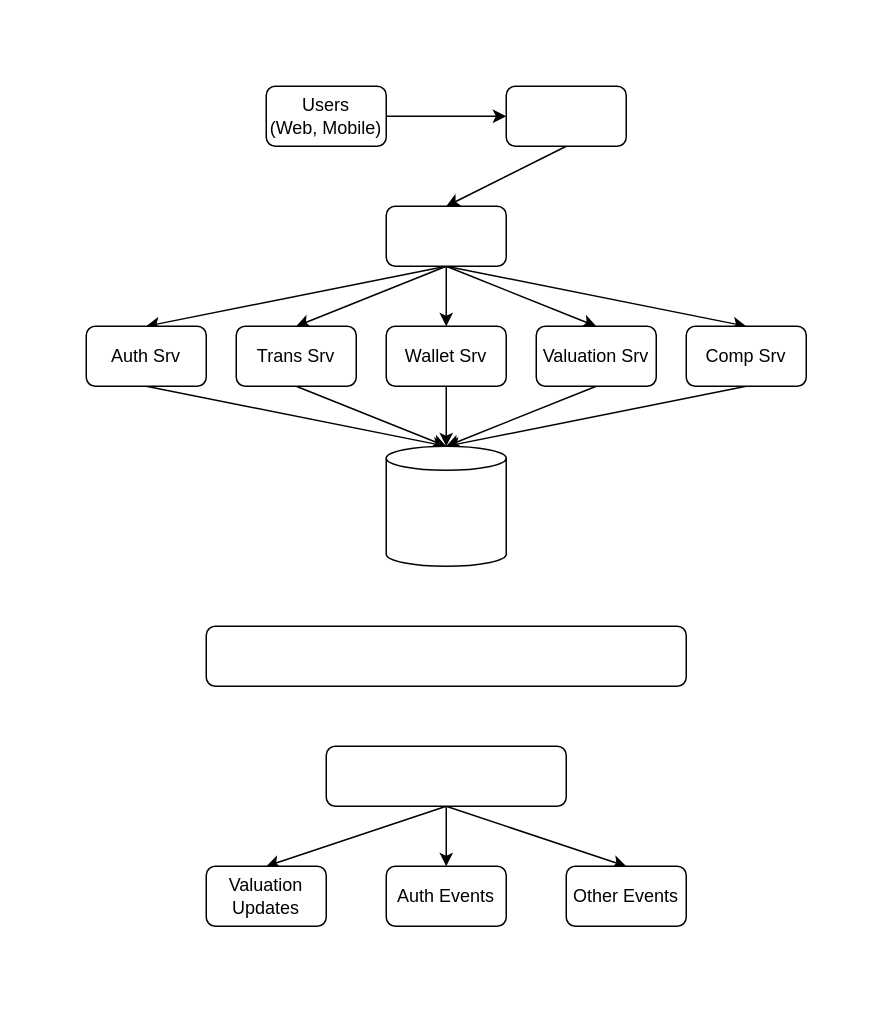
Image size: 891x1011. Some labels were removed from this diagram. The shapes that lost their labels are listed below. From the top down, each one's centre as x and y in pixels, then its label:
At (565,115): "Load Balancer".
At (445,235): "API Gateway".
At (445,505): "Database".
At (445,655): "Service Mesh Handles communication, security, monitoring".
At (445,775): "Event Bus (Kafka, RabbitMQ, etc.)".
